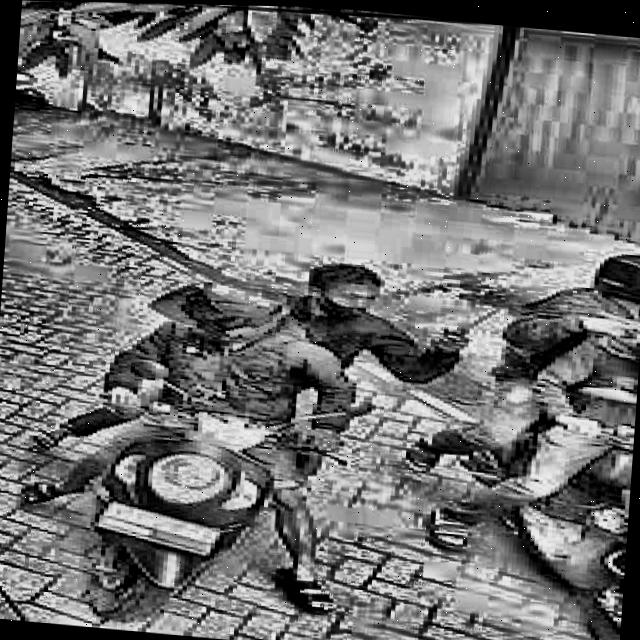robbery: (12, 249, 520, 640)
